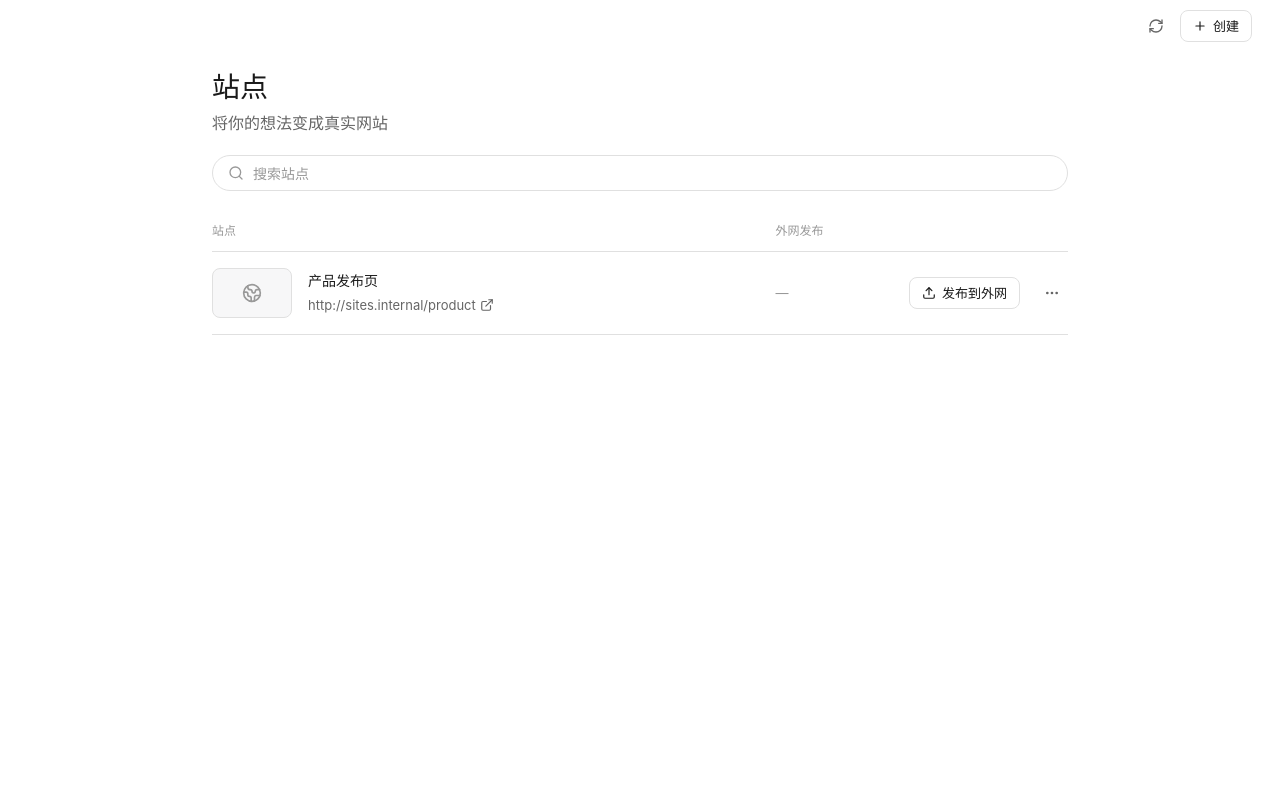
SitesWorkspace › removes only the confirmed site after the API succeeds
Expected: the heading "产品发布页" is shown, [308,272,378,289]
Click the button with test id "site-more-site-1". click: [1052, 293]
box: [1036,277,1068,309]
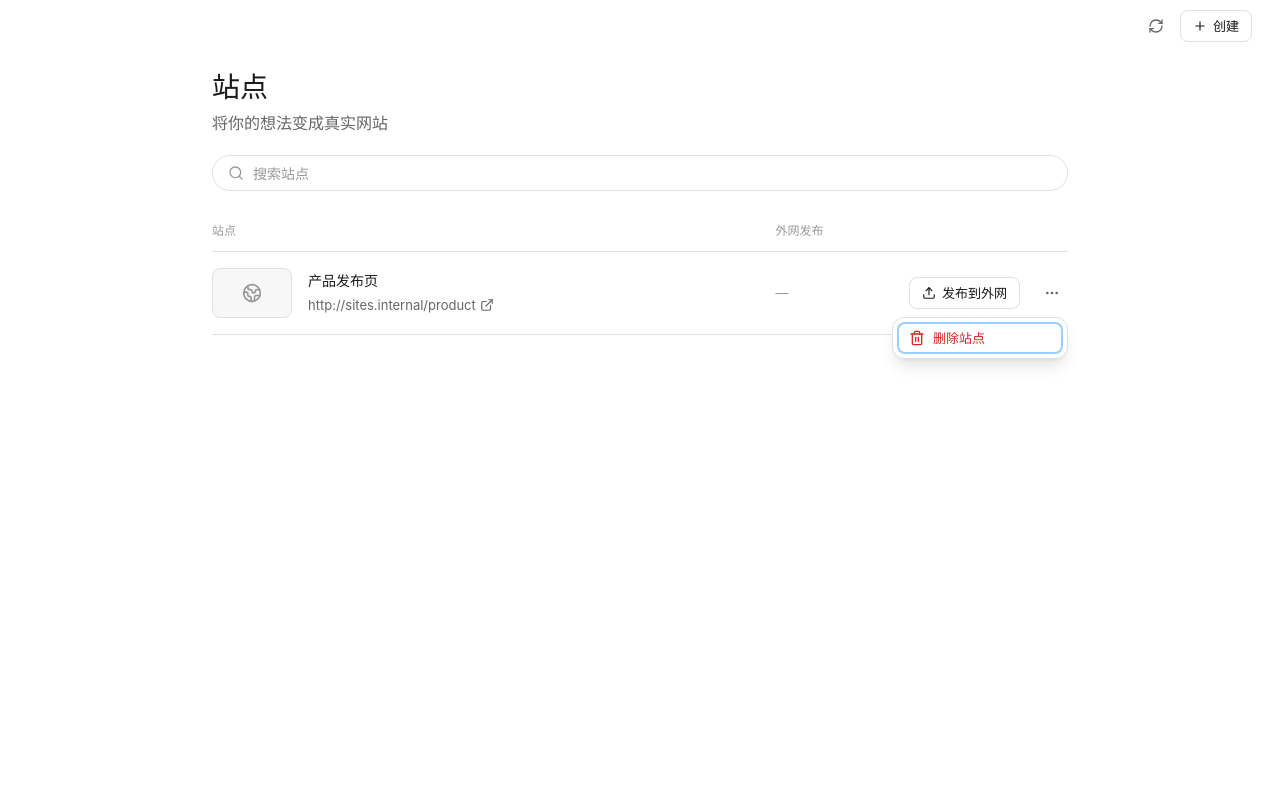
Click the menu item with test id "site-delete-menu-item-site-1". click: [980, 338]
box: [897,322,1063,354]
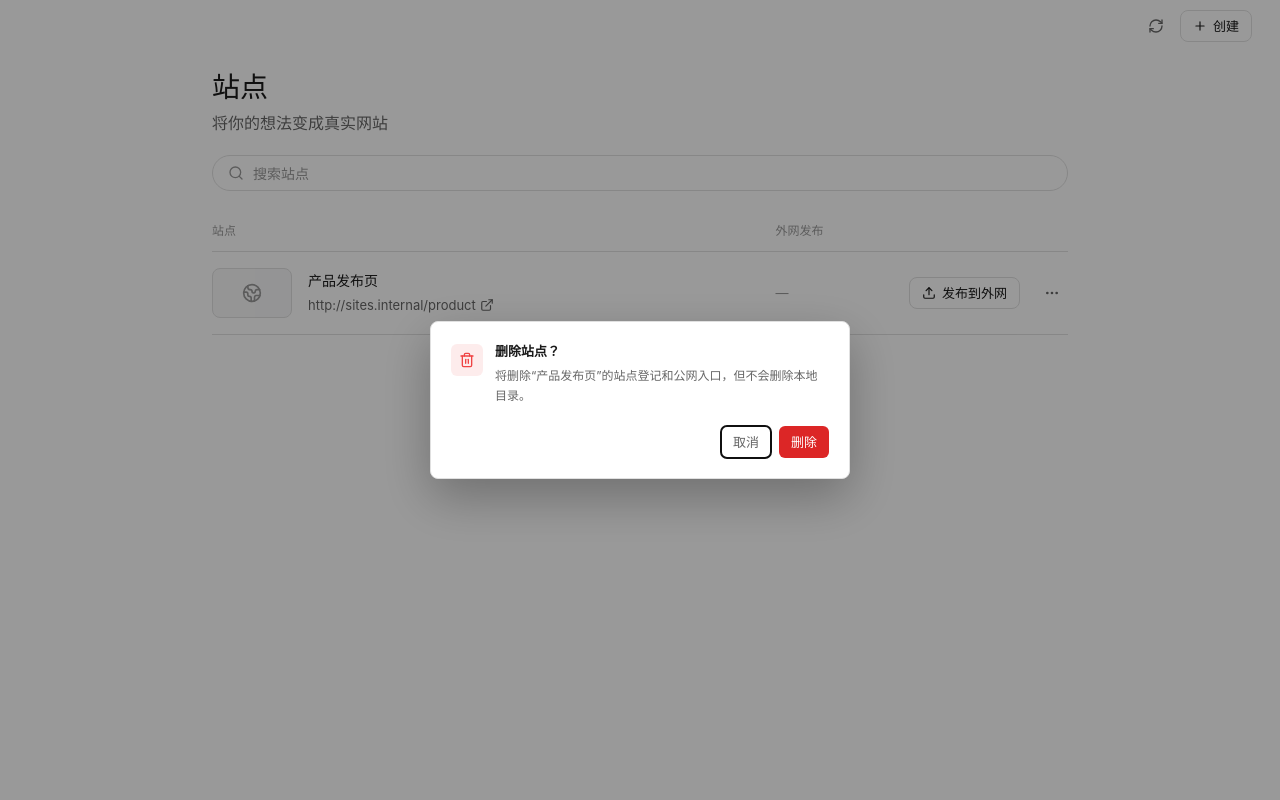
Click the button with test id "site-delete-confirm-button". click: [804, 442]
box: [779,426,829,458]
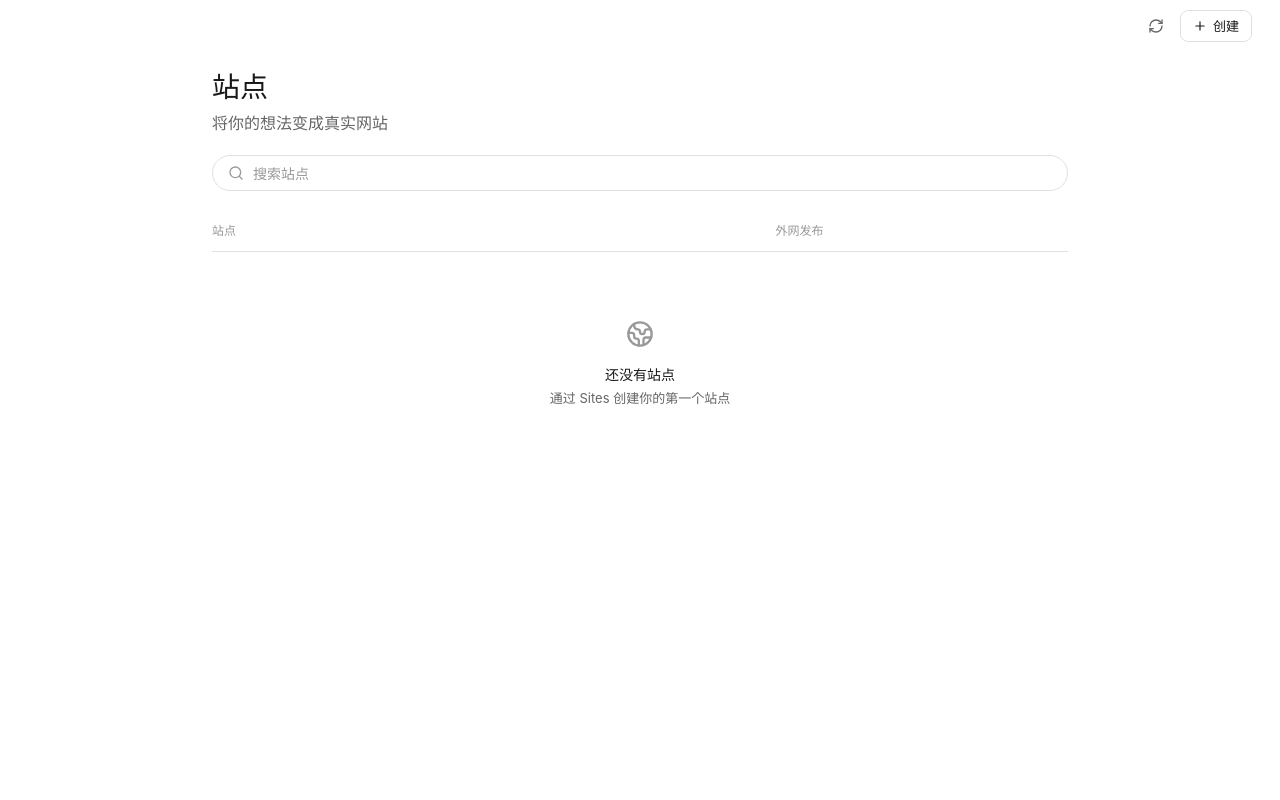
Expected: the element with test id "site-row-site-1" is gone
